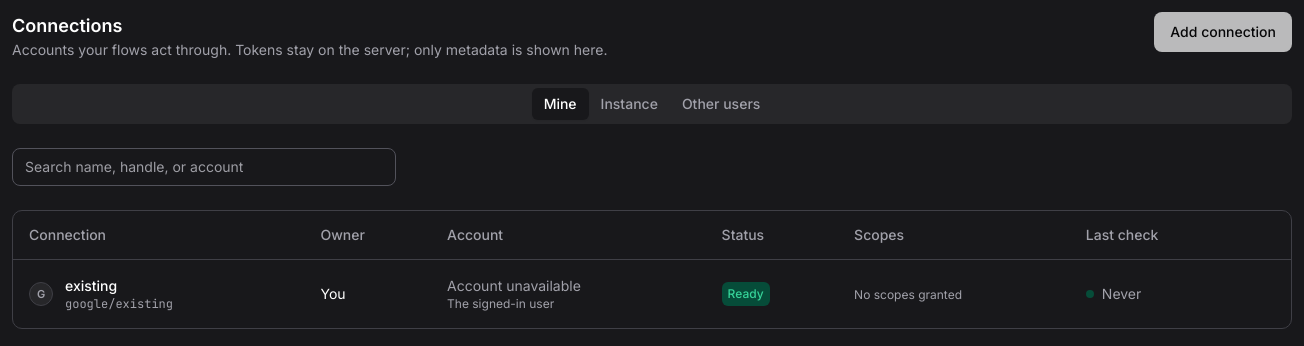
Scenario: ConnectionsPage tabs › describes an empty Instance tab
The image size is (1304, 346).
Click the tab "Instance" at (629, 104), box [589,88,670,120]
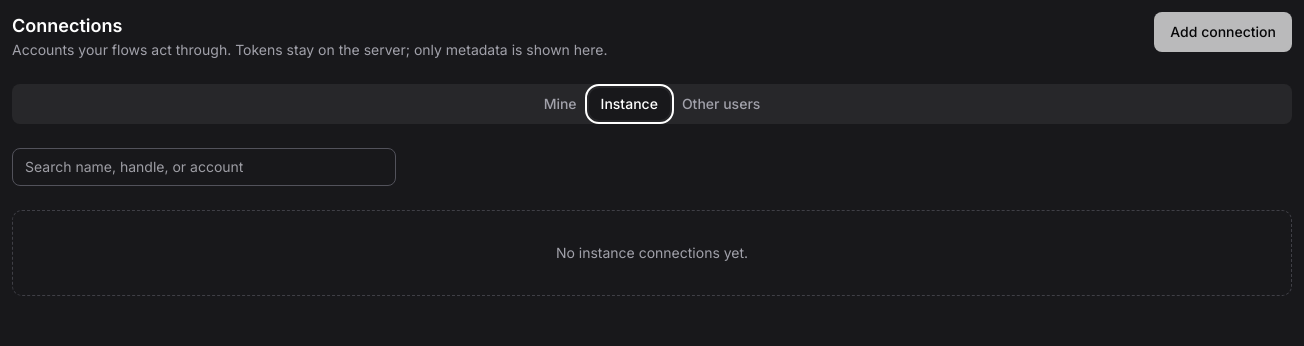
Expected: the text with test id "connections-empty" reads "No instance connections yet.", [556,244,748,261]
